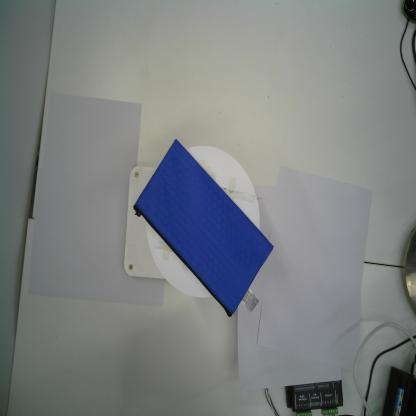Stationery: (134, 139, 274, 317)
